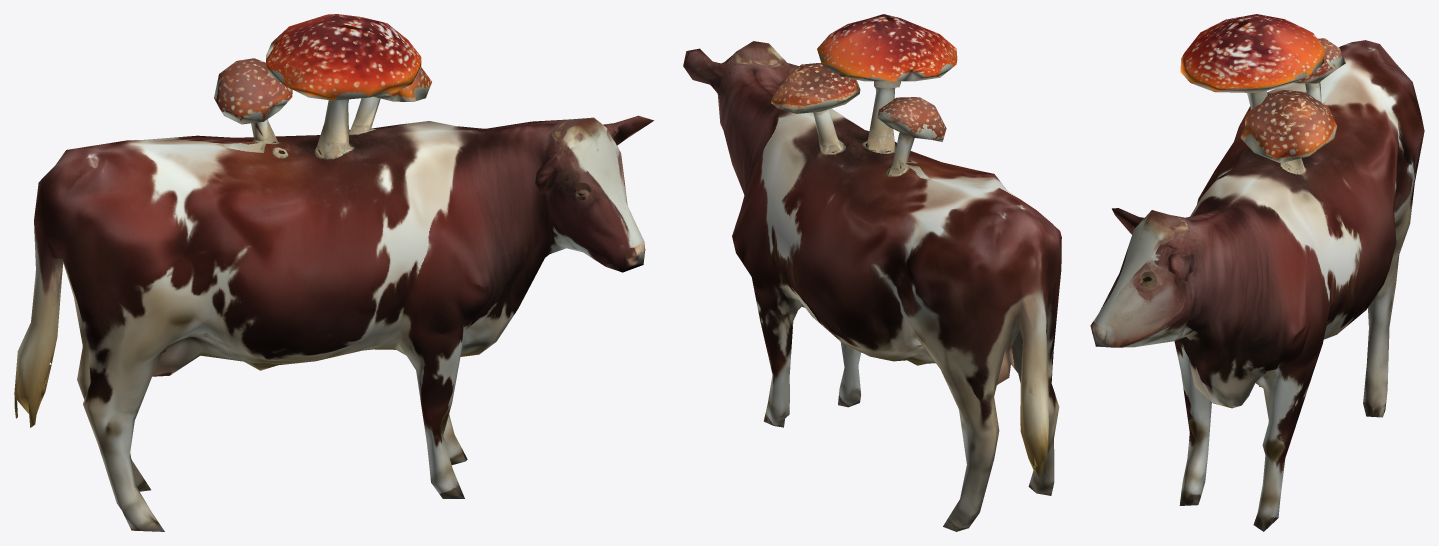
File: mooshroom_single_1500.glb
3 views of the same model, side by side, from view 1: azimuth 30°, elevation 25°; view 2: azimuth 150°, elevation 25°; view 3: azimuth 270°, elevation 25° (orthographic). The views are drawn at different scales.
Bounding box in the file's own units: 0.8889 × 0.7837 × 0.5199.
1 material, 1 textured.
